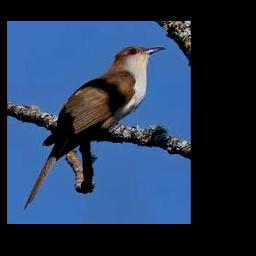Cuckoo: (24, 46, 166, 210)
